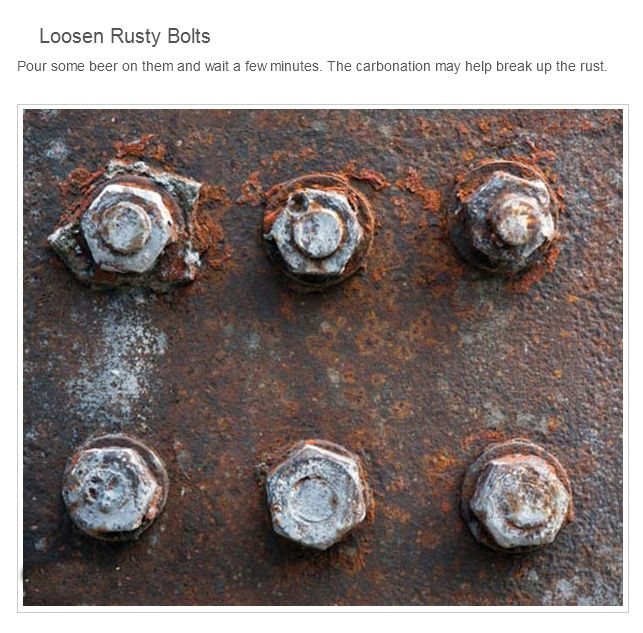bolt_b: (260, 442, 369, 554), (458, 166, 556, 275), (466, 451, 572, 550), (79, 181, 180, 281), (57, 443, 163, 538), (263, 184, 365, 279)
